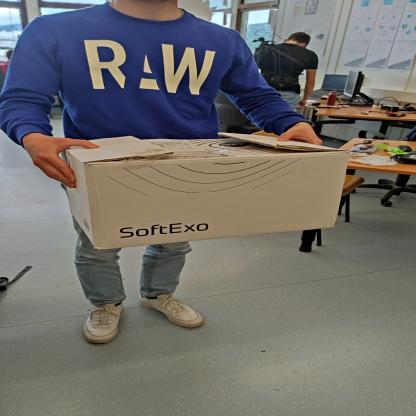-: (37, 114, 354, 247)
